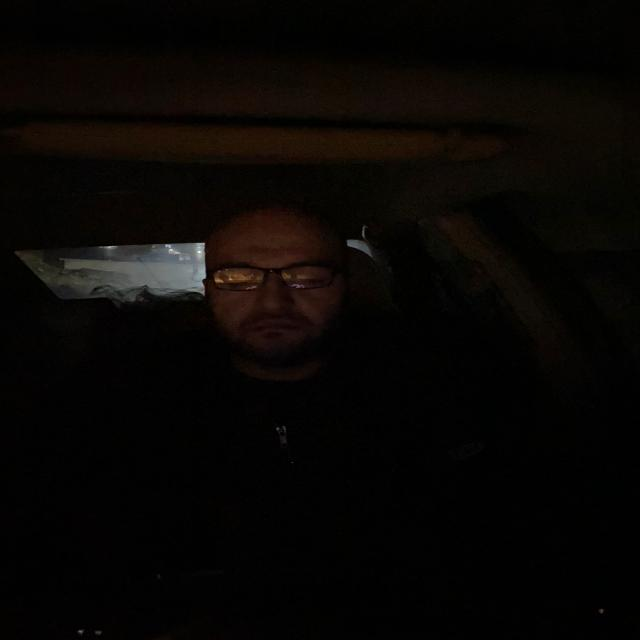drowsy: (184, 205, 372, 362)
